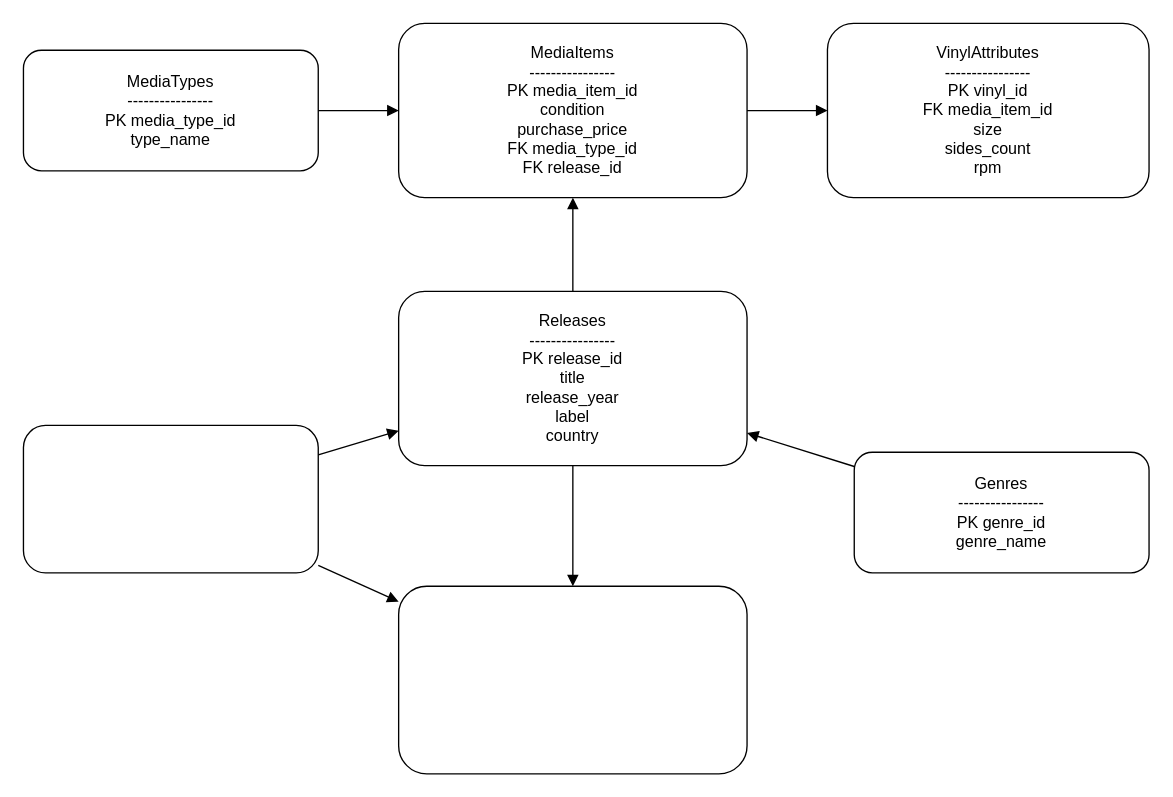
Some shapes in this 1173 by 797 pixel diagram are drawn without their labels. The centre of each missing label's shape, as x and y in pixels:
Artists ---------------- PK artist_id name artist_type: the point at 170,498
Tracks ---------------- PK track_id track_number title duration FK release_id: the point at 572,679
